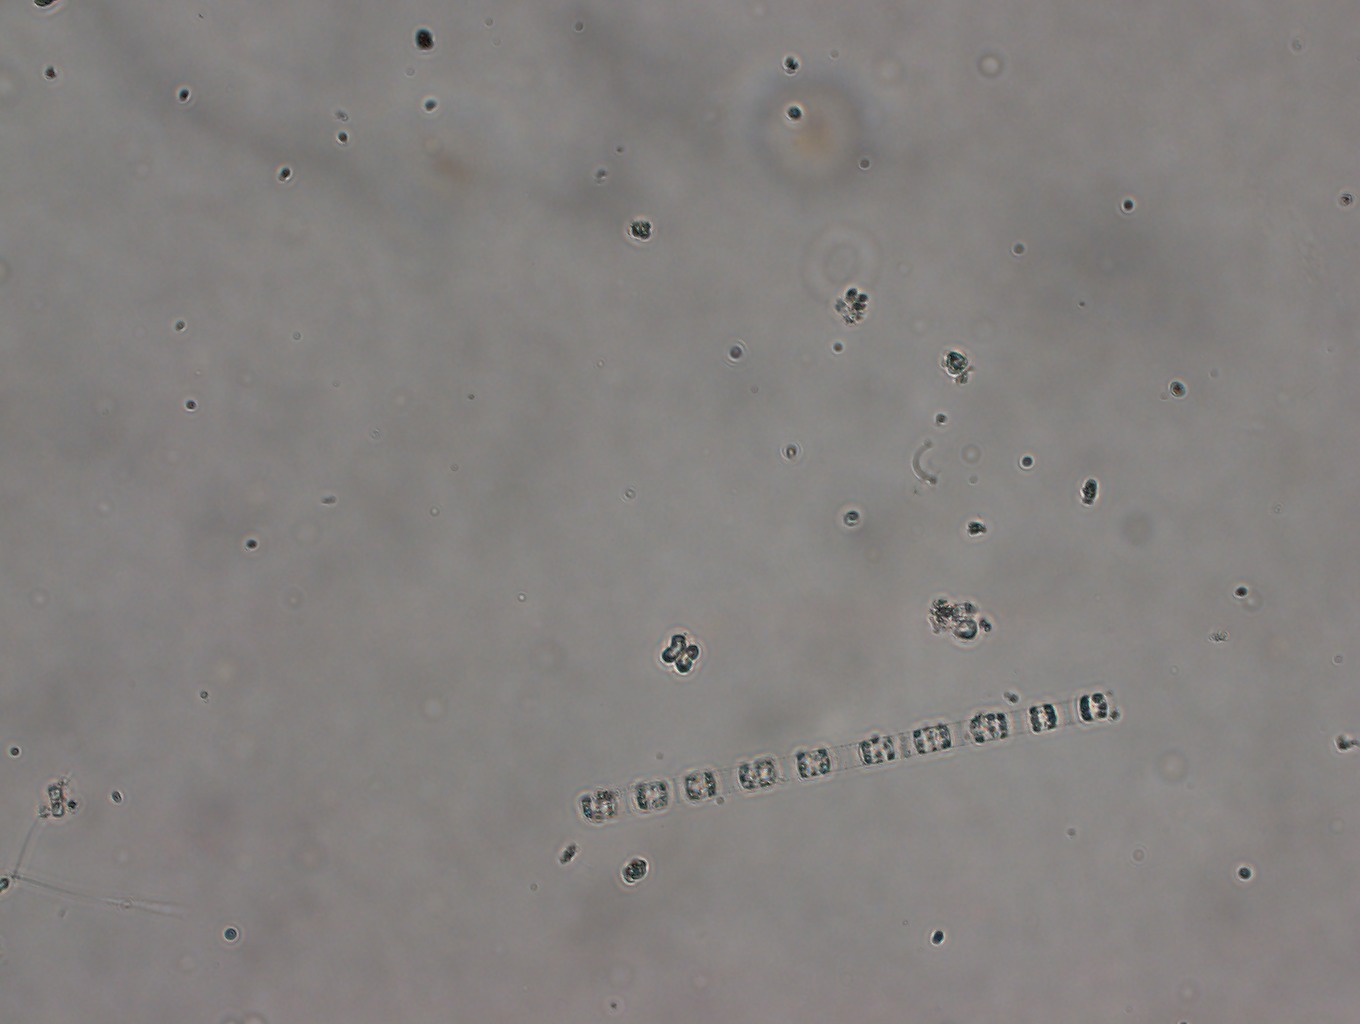skeletonema: (563, 678, 1128, 839)
